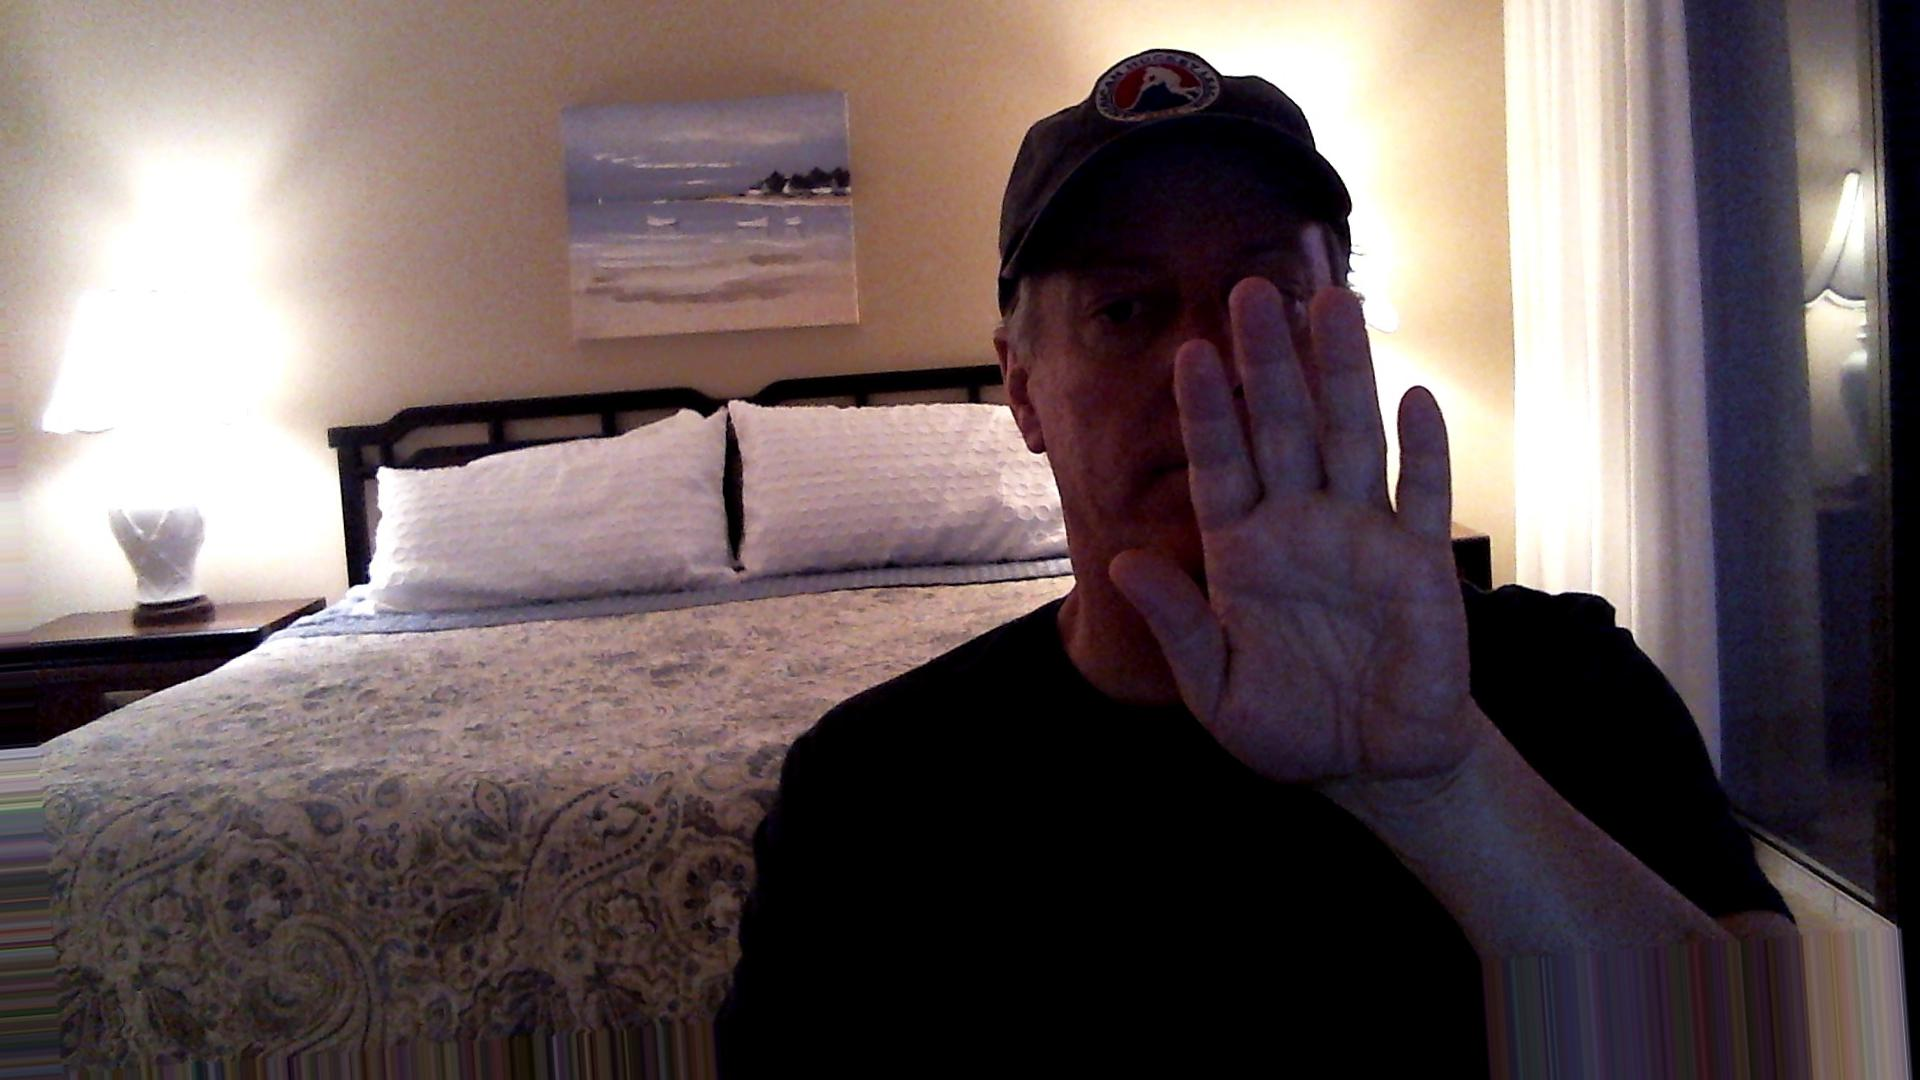Hello: (1101, 266, 1528, 794)
